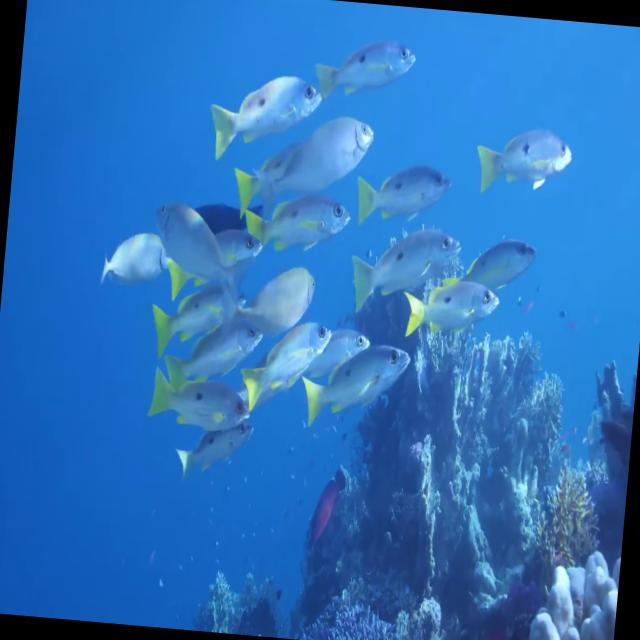fish: (228, 102, 380, 230), (136, 186, 254, 316), (290, 323, 414, 435), (204, 64, 323, 170), (340, 224, 466, 320), (232, 304, 332, 418), (162, 299, 268, 397), (140, 352, 250, 444), (312, 16, 418, 104), (352, 152, 462, 231), (236, 256, 322, 356), (393, 270, 503, 348), (238, 187, 355, 260), (473, 113, 572, 199), (146, 282, 248, 354), (93, 204, 172, 294), (450, 226, 548, 297), (175, 414, 256, 486), (304, 303, 372, 384)
